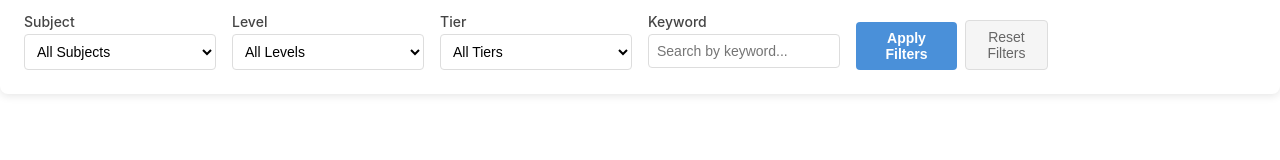
Test: Task 2 — Free-Text Search › should clear the text input when Reset Filters is clicked
In the field: (744, 51) [648,34,840,68], type "algebra"
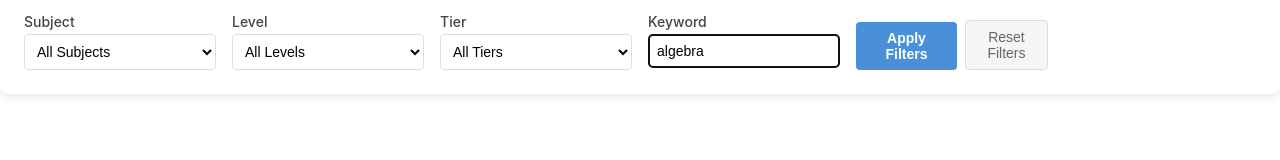
Click the button "Reset Filters": click(1006, 45) [965,20,1048,70]
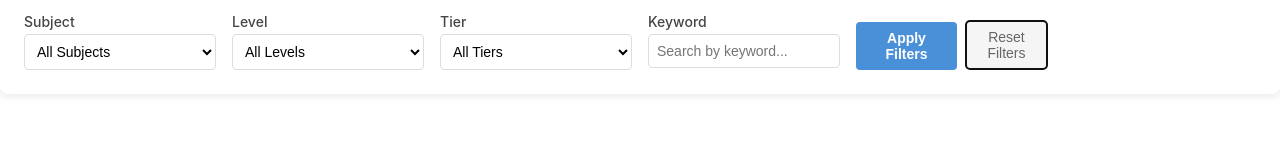
Check: the field is empty, box [648,34,840,68]
